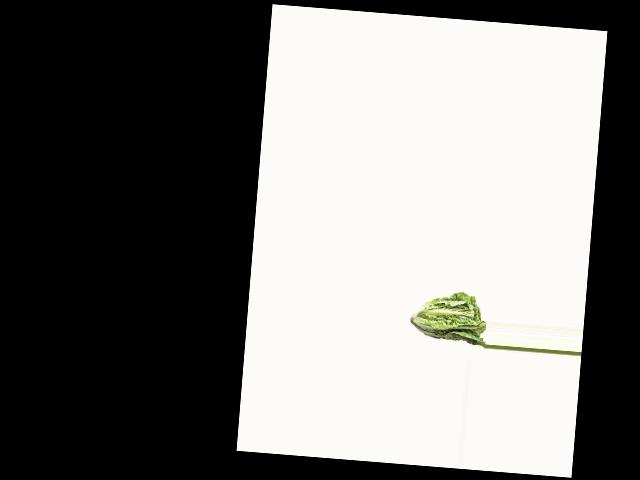lettuce: (410, 285, 488, 345)
